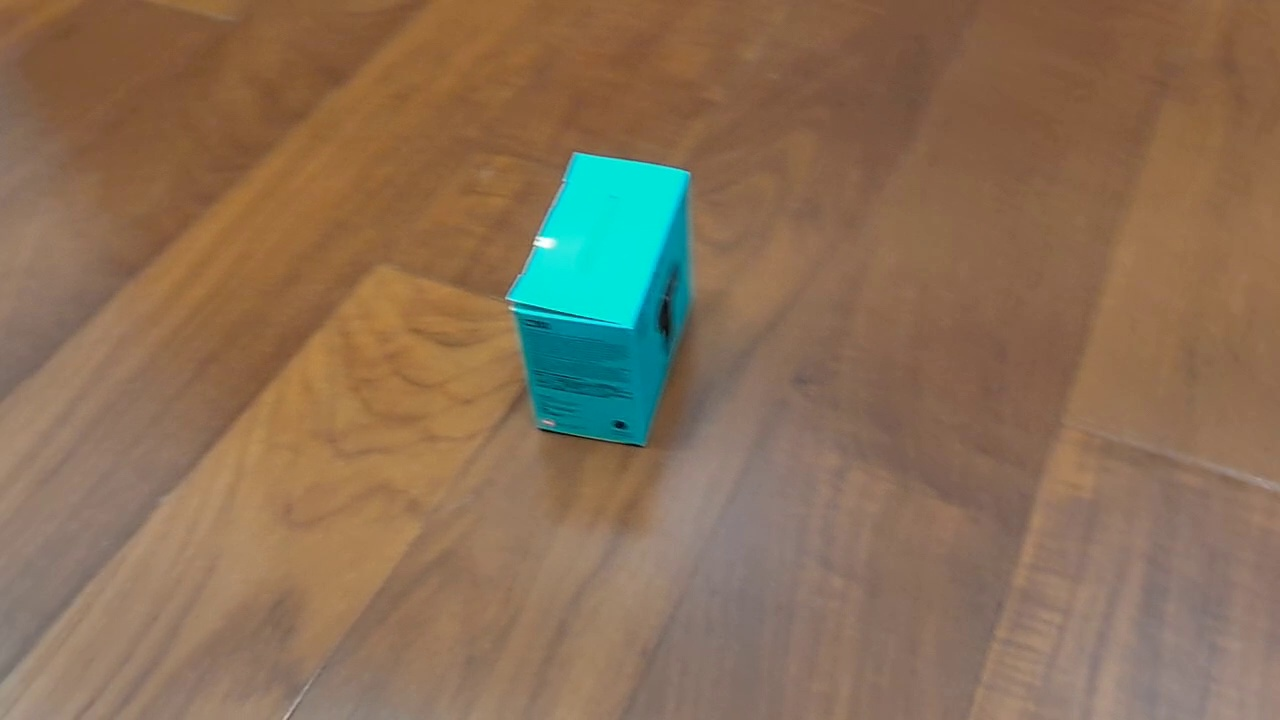webcam: (503, 149, 698, 450)
